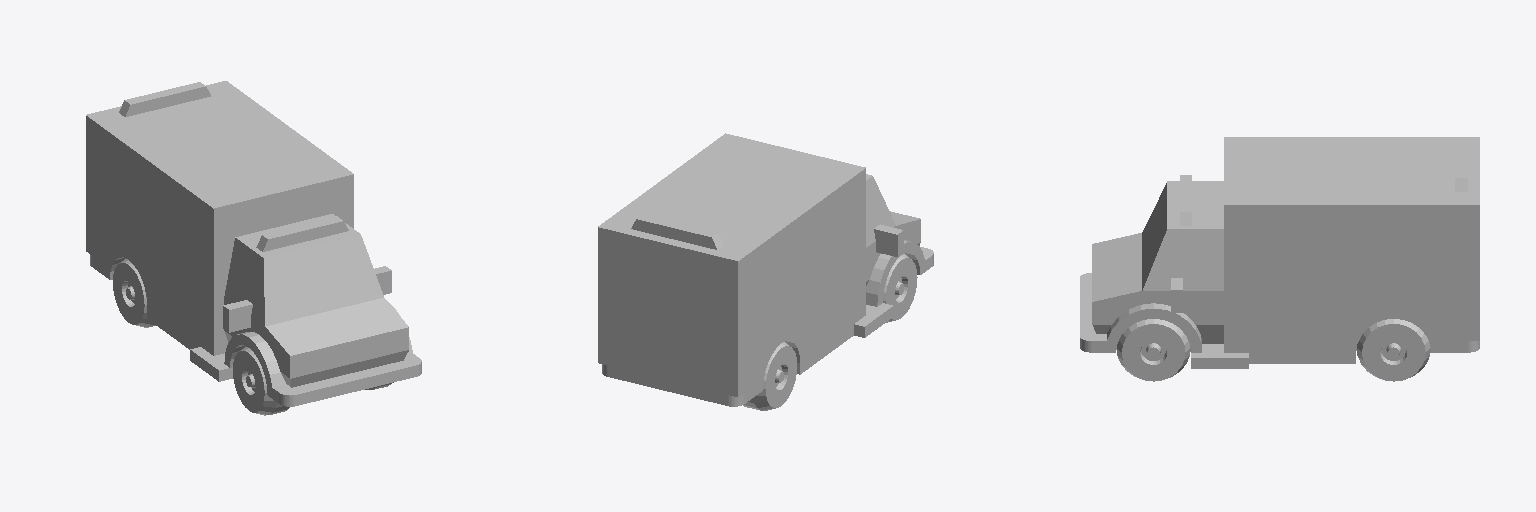
Rendered from ambulance.obj.
3 renders of one model, left to right at view 1: azimuth 30°, elevation 25°; view 2: azimuth 150°, elevation 25°; view 3: azimuth 270°, elevation 25°, orthographic.
Visible parts, largest first — view 1: body, wheel_frontRight, wheel_backRight; view 2: body, doorRight, doorLeft, wheel_backRight, wheel_frontRight; view 3: body, wheel_backLeft, wheel_frontLeft.
Part boxes in pixels (bbox=[...]): body: bbox=[86, 81, 421, 406]; wheel_frontRight: bbox=[233, 346, 289, 415]; wheel_backRight: bbox=[113, 258, 155, 327]; body: bbox=[598, 133, 933, 406]; doorRight: bbox=[668, 256, 727, 394]; doorLeft: bbox=[608, 241, 667, 379]; wheel_backRight: bbox=[743, 342, 796, 410]; wheel_frontRight: bbox=[883, 254, 917, 322]; body: bbox=[1080, 137, 1479, 368]; wheel_backLeft: bbox=[1357, 319, 1430, 381]; wheel_frontLeft: bbox=[1117, 319, 1190, 381].
Size of the model in its own units: 1.12 by 1.27 by 2.4.